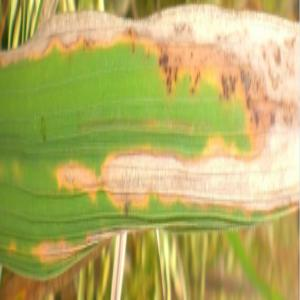Hawar Daun: (111, 116, 270, 191), (158, 1, 268, 103), (111, 173, 264, 218)
